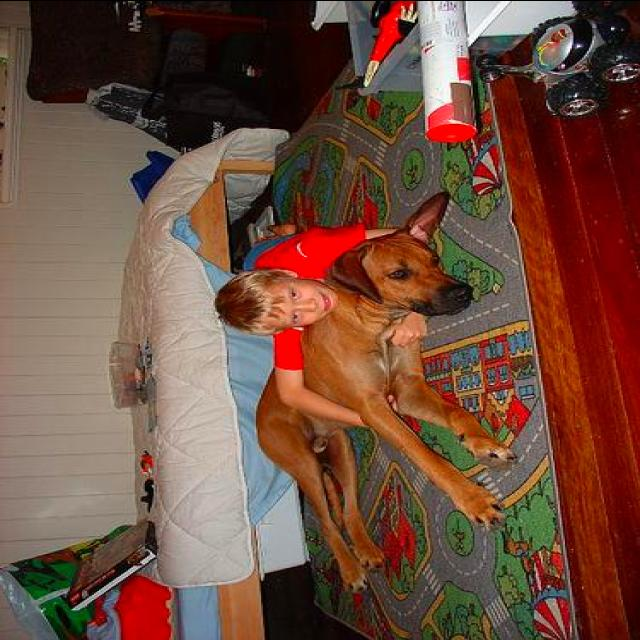rhodesian_ridgeback: (249, 188, 522, 594)
